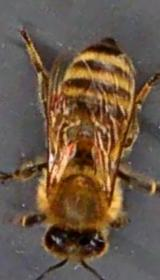varroa_mite: (42, 86, 67, 110)
